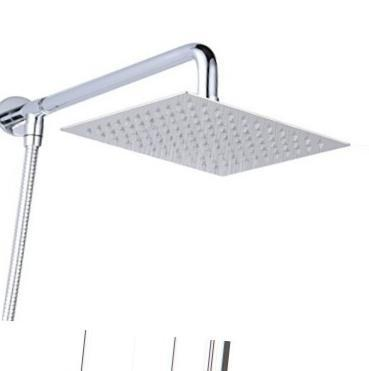Ducha: (0, 40, 356, 309)
